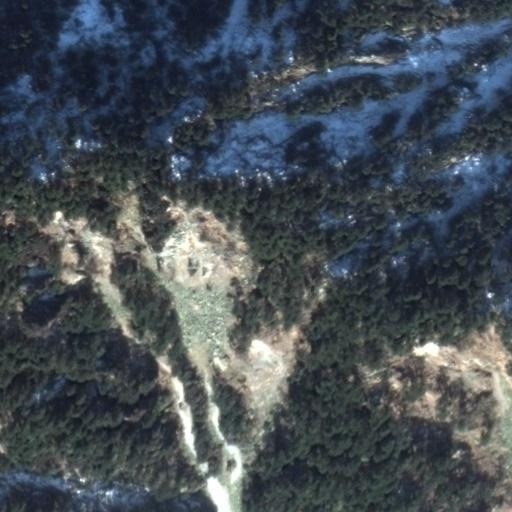landslide: (44, 185, 319, 512), (366, 325, 512, 512)
